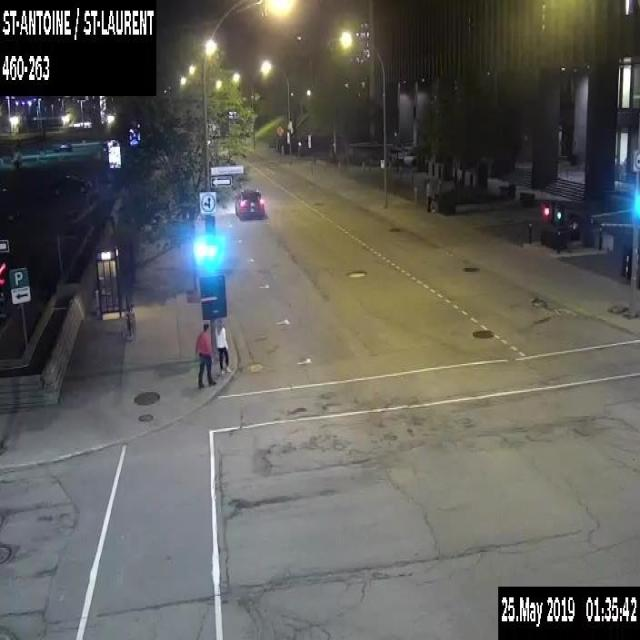construction: (274, 124, 284, 137)
pedestrian: (194, 321, 216, 388), (216, 317, 232, 375), (424, 176, 434, 211)
vehicle: (234, 187, 264, 220), (50, 173, 91, 195), (52, 142, 72, 152)
